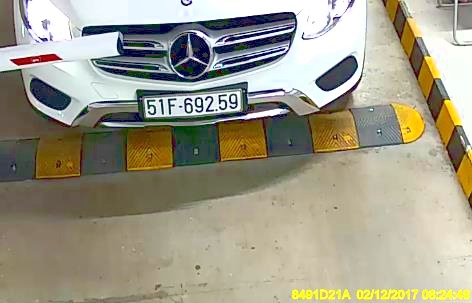plate: (135, 87, 255, 120)
